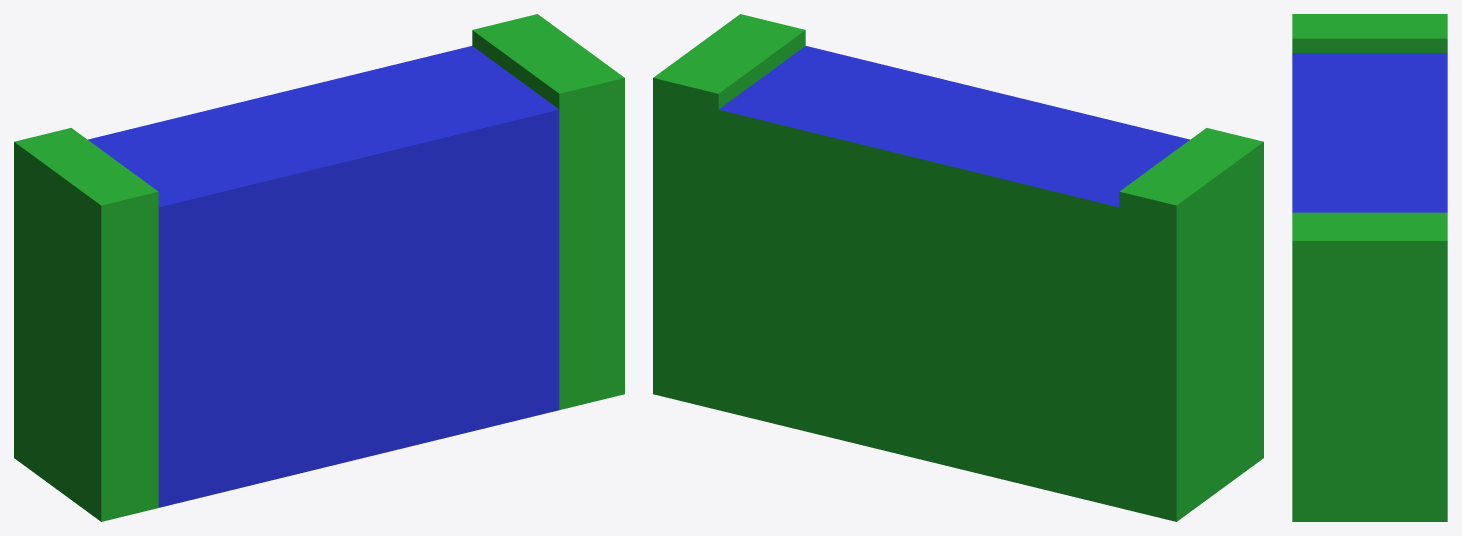
Rendered from module-edge_river_cliff_left_001.glb.
3 renders of one model, left to right at view 1: azimuth 30°, elevation 25°; view 2: azimuth 150°, elevation 25°; view 3: azimuth 270°, elevation 25°, orthographic. The views are drawn at different scales.
Visible parts, largest first — view 1: module-edge_river_cliff_left_001; view 2: module-edge_river_cliff_left_001; view 3: module-edge_river_cliff_left_001.
Part boxes in pixels (box(x1,y1,x2,y2)): module-edge_river_cliff_left_001: box(14, 14, 624, 521); module-edge_river_cliff_left_001: box(653, 14, 1263, 521); module-edge_river_cliff_left_001: box(1292, 14, 1447, 521).
Bounding box in the file's own units: 0.866 × 0.5 × 0.25.
